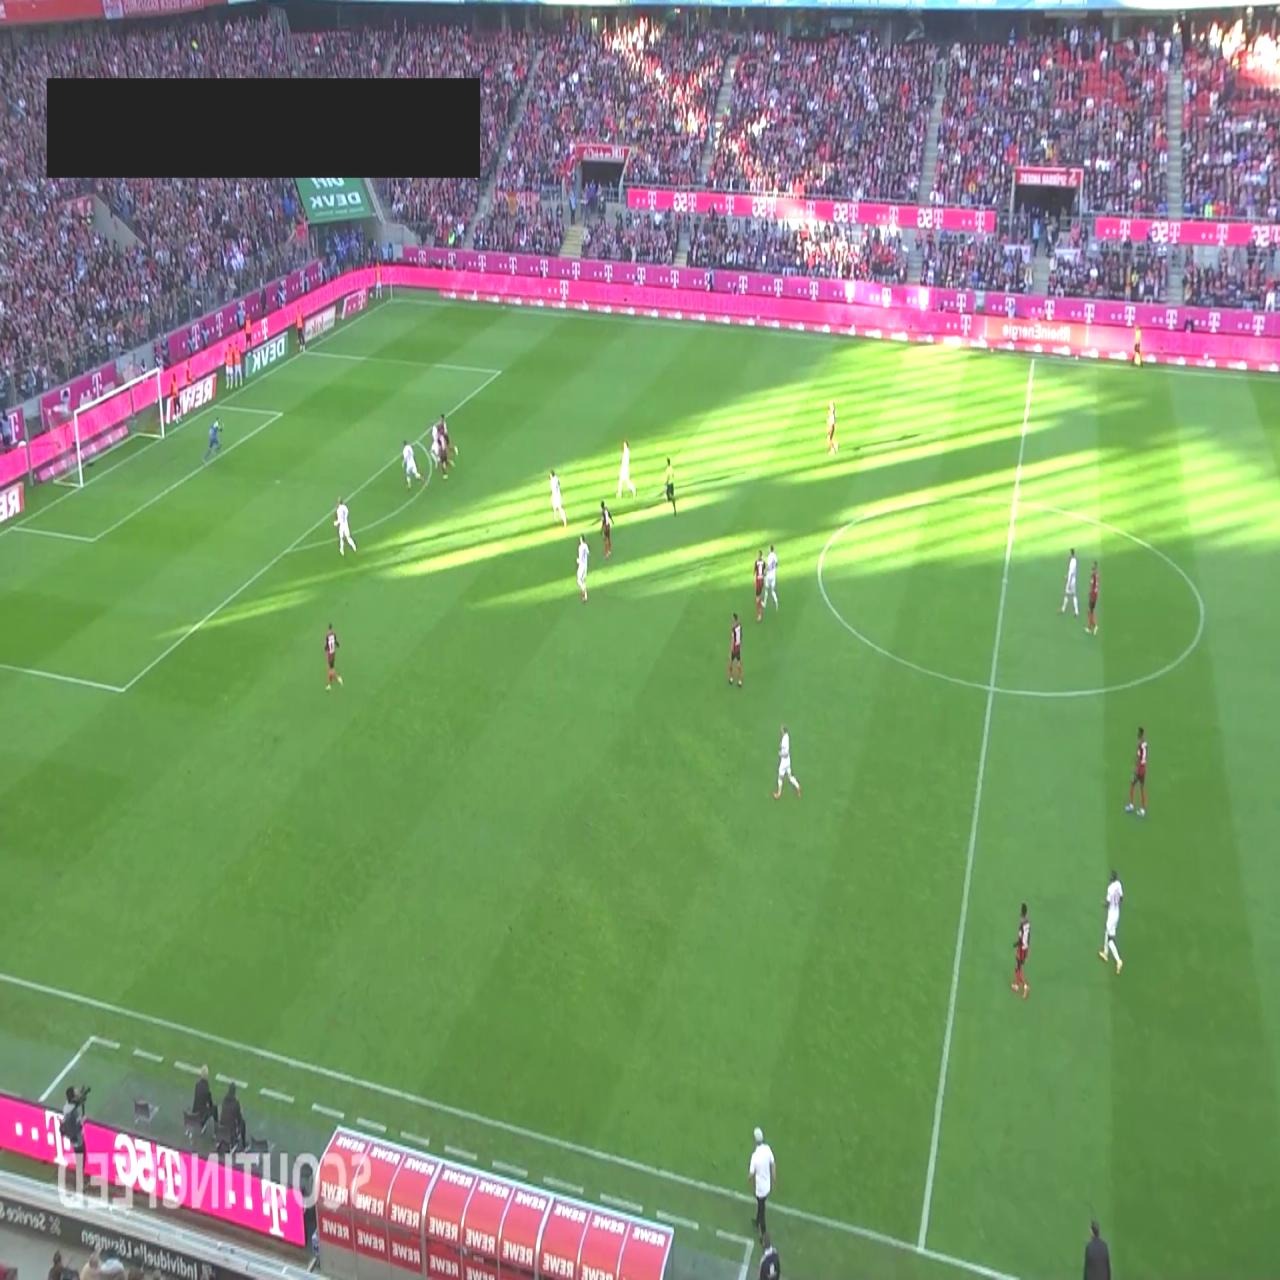goalkeeper: (203, 416, 223, 462)
player: (1097, 868, 1124, 976), (772, 723, 802, 800), (1125, 725, 1148, 817), (1011, 902, 1031, 1000), (760, 543, 780, 616), (1059, 548, 1080, 615), (334, 495, 356, 556), (324, 621, 343, 690), (616, 438, 637, 499), (438, 412, 458, 472), (728, 612, 744, 686), (549, 468, 567, 529), (402, 438, 423, 489), (1085, 560, 1099, 636), (576, 533, 589, 602), (753, 549, 765, 621), (600, 500, 614, 560), (436, 430, 452, 481), (429, 424, 443, 472), (826, 401, 838, 455)
referee: (664, 456, 676, 516), (1132, 324, 1143, 366)
